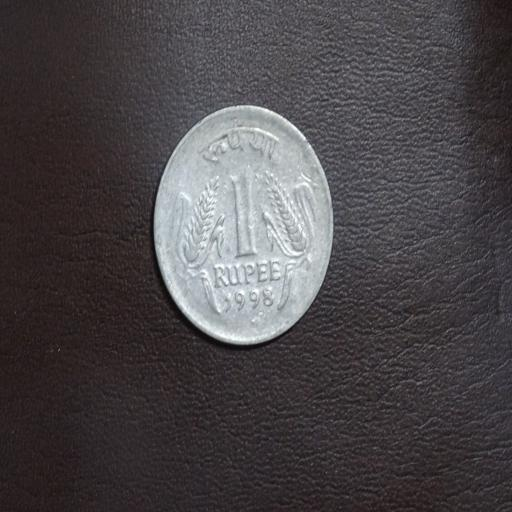rupee1: (150, 104, 336, 346)
